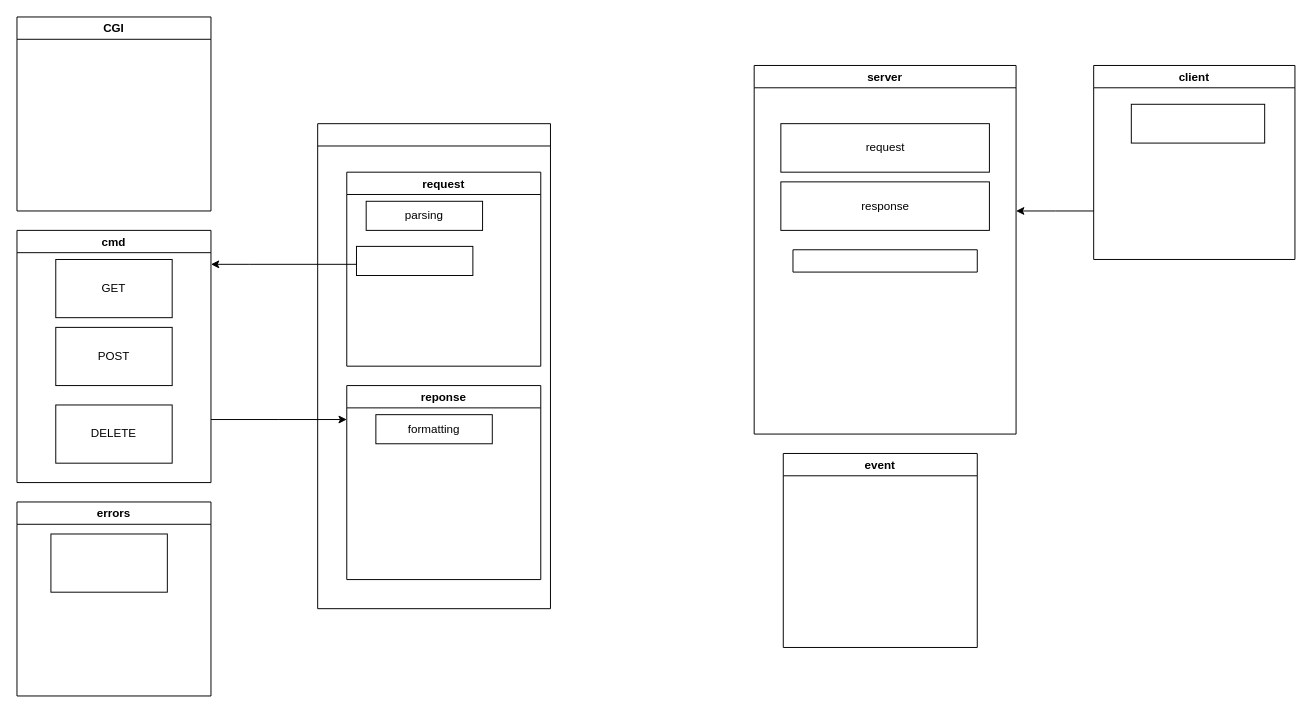
This 1312x713 diagram has some shape labels left out. Here are the shapes that lost their labels. From the top down, the centre of each, then its label:
[1197,123]: socket
[414,260]: envoi au commande correspondante
[884,260]: ressources fichier de config
[433,366]: HTTPMessage
[108,562]: list status codes
